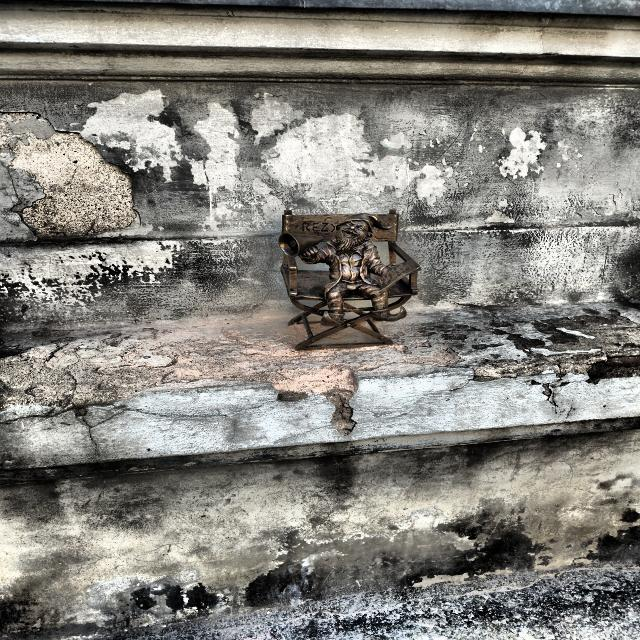Rezyser: (278, 210, 420, 350)
